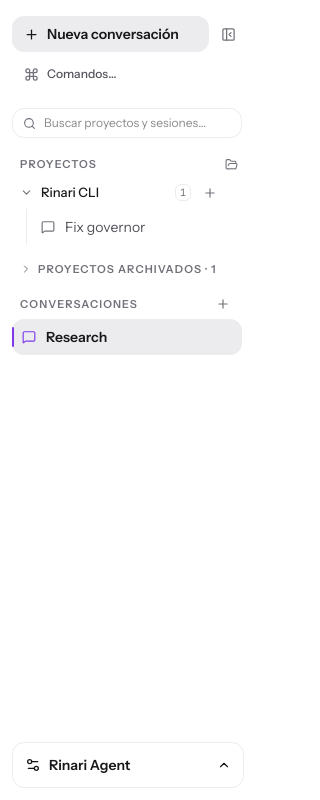
Scenario: reveals project sessions and clears search when creating from a collapsed project
Click the button titled "/repo/project" at point(106, 193), box [12,179,199,206]
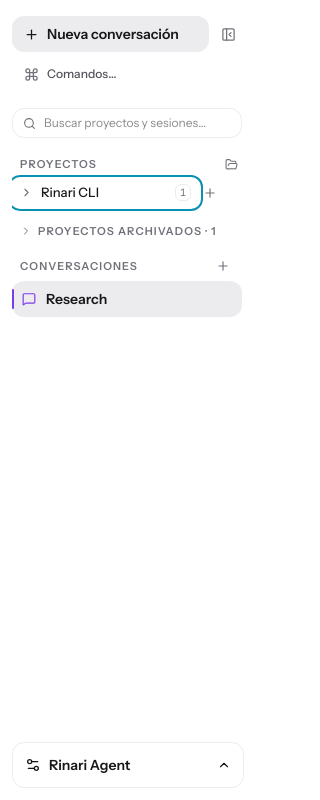
Now the button "Fix governor" is gone
Type "Rinari" into the field with placeholder "Buscar proyectos y sesiones…" at point(138, 123), box [44,115,231,131]
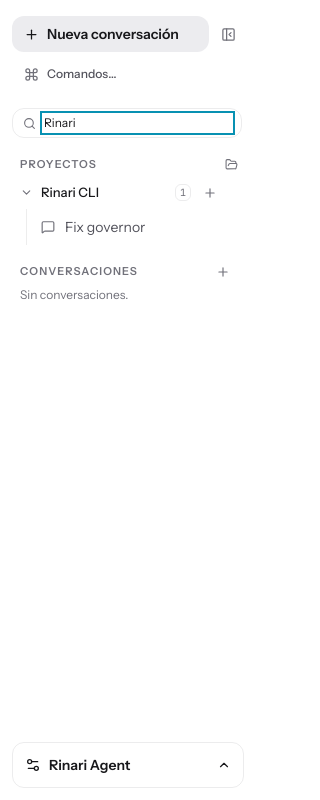
Click the button named "Nueva sesión en Rinari CLI" at point(210, 193), box [199,182,221,204]
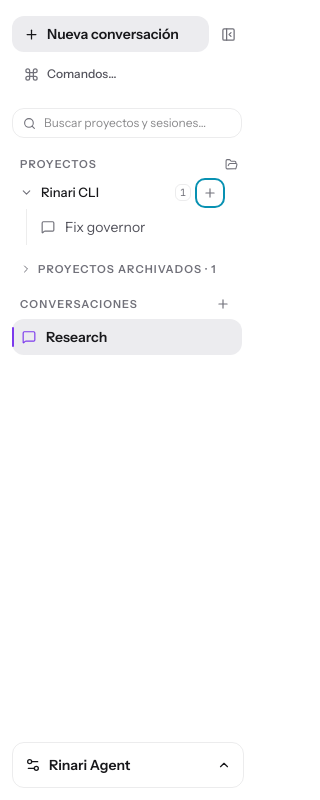
Now the text "Fix governor" is shown, box [65,218,145,236]
Now the field with placeholder "Buscar proyectos y sesiones…" is empty, box [44,115,231,131]
